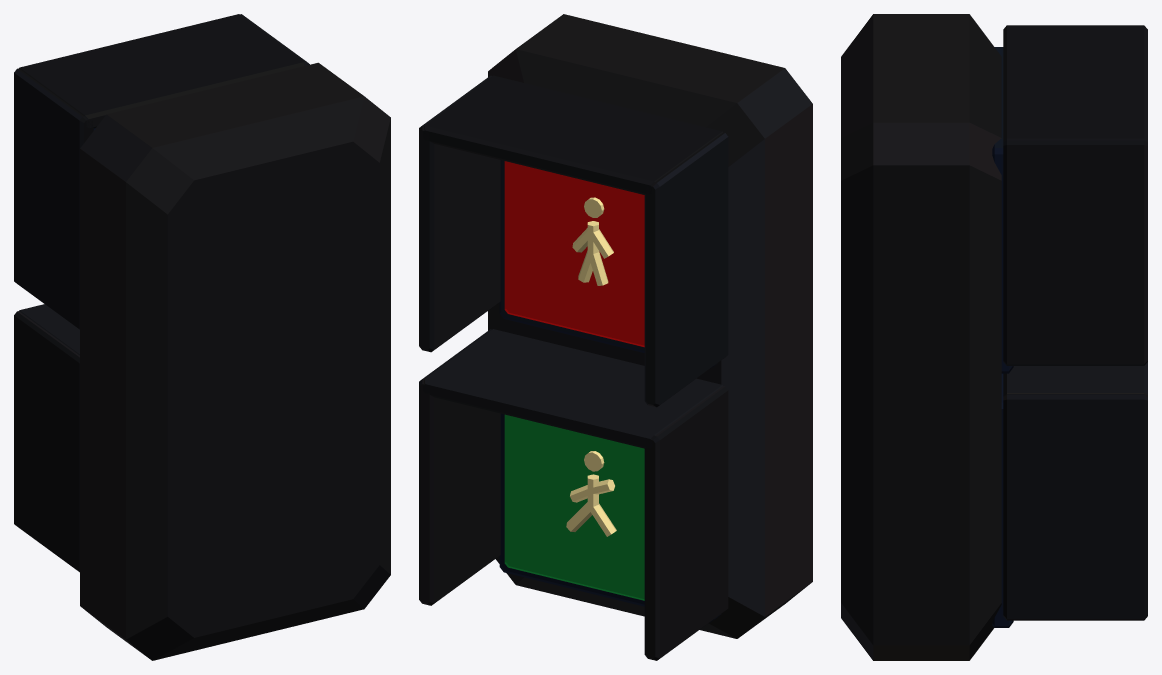
Rendered from HK_Signal_Pedestrian.fbx.
3 views of the same model, side by side, from view 1: azimuth 30°, elevation 25°; view 2: azimuth 150°, elevation 25°; view 3: azimuth 270°, elevation 25° (orthographic). The views are drawn at different scales.
Visible parts, largest first — view 1: HK_Signal_Pedestrian_Housing; view 2: HK_Signal_Pedestrian_Housing, HK_Signal_Pedestrian_GreenLight, HK_Signal_Pedestrian_RedLight; view 3: HK_Signal_Pedestrian_Housing.
Part boxes in pixels (x1,y1,x2,y2): HK_Signal_Pedestrian_Housing: (14, 14, 390, 660); HK_Signal_Pedestrian_Housing: (419, 14, 812, 660); HK_Signal_Pedestrian_GreenLight: (504, 414, 644, 600); HK_Signal_Pedestrian_RedLight: (504, 161, 644, 347); HK_Signal_Pedestrian_Housing: (841, 14, 1147, 660).
Size of the model in its own units: 0.4 by 0.74 by 0.382.
